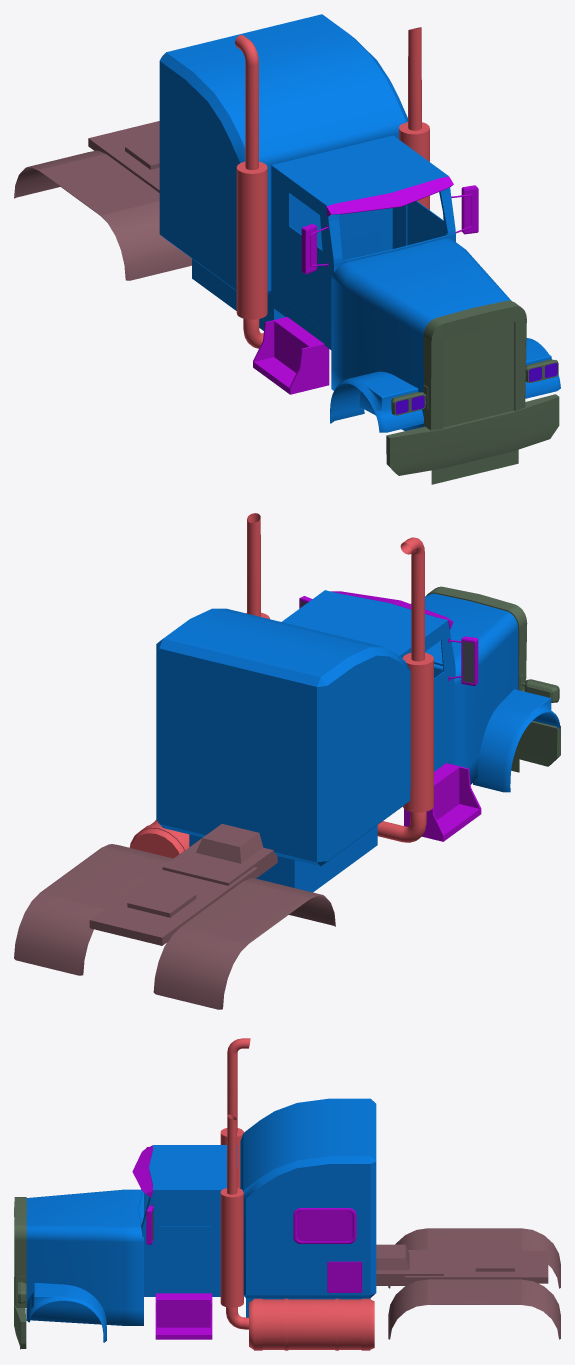
The model's file is Truck_Body.fbx.
3 renders of one model, top to bottom at view 1: azimuth 30°, elevation 25°; view 2: azimuth 150°, elevation 25°; view 3: azimuth 270°, elevation 25°, orthographic. The views are drawn at different scales.
Parts seen in each view (by area): view 1: Truck_Body; view 2: Truck_Body; view 3: Truck_Body.
Part boxes in pixels (left/top/right/bottom): Truck_Body: left=14, top=14, right=560, bottom=484; Truck_Body: left=14, top=513, right=560, bottom=1009; Truck_Body: left=14, top=1038, right=560, bottom=1350.
Bounding box in the file's own units: 305 × 467 × 877.
